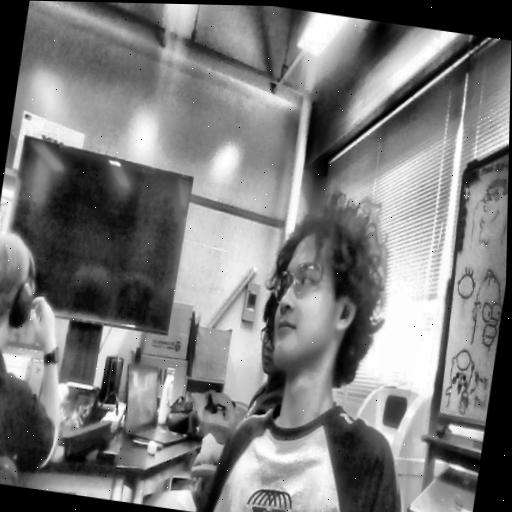Daifuku: (257, 186, 404, 405)
Not Daifuku: (0, 235, 43, 363), (253, 317, 279, 376)
